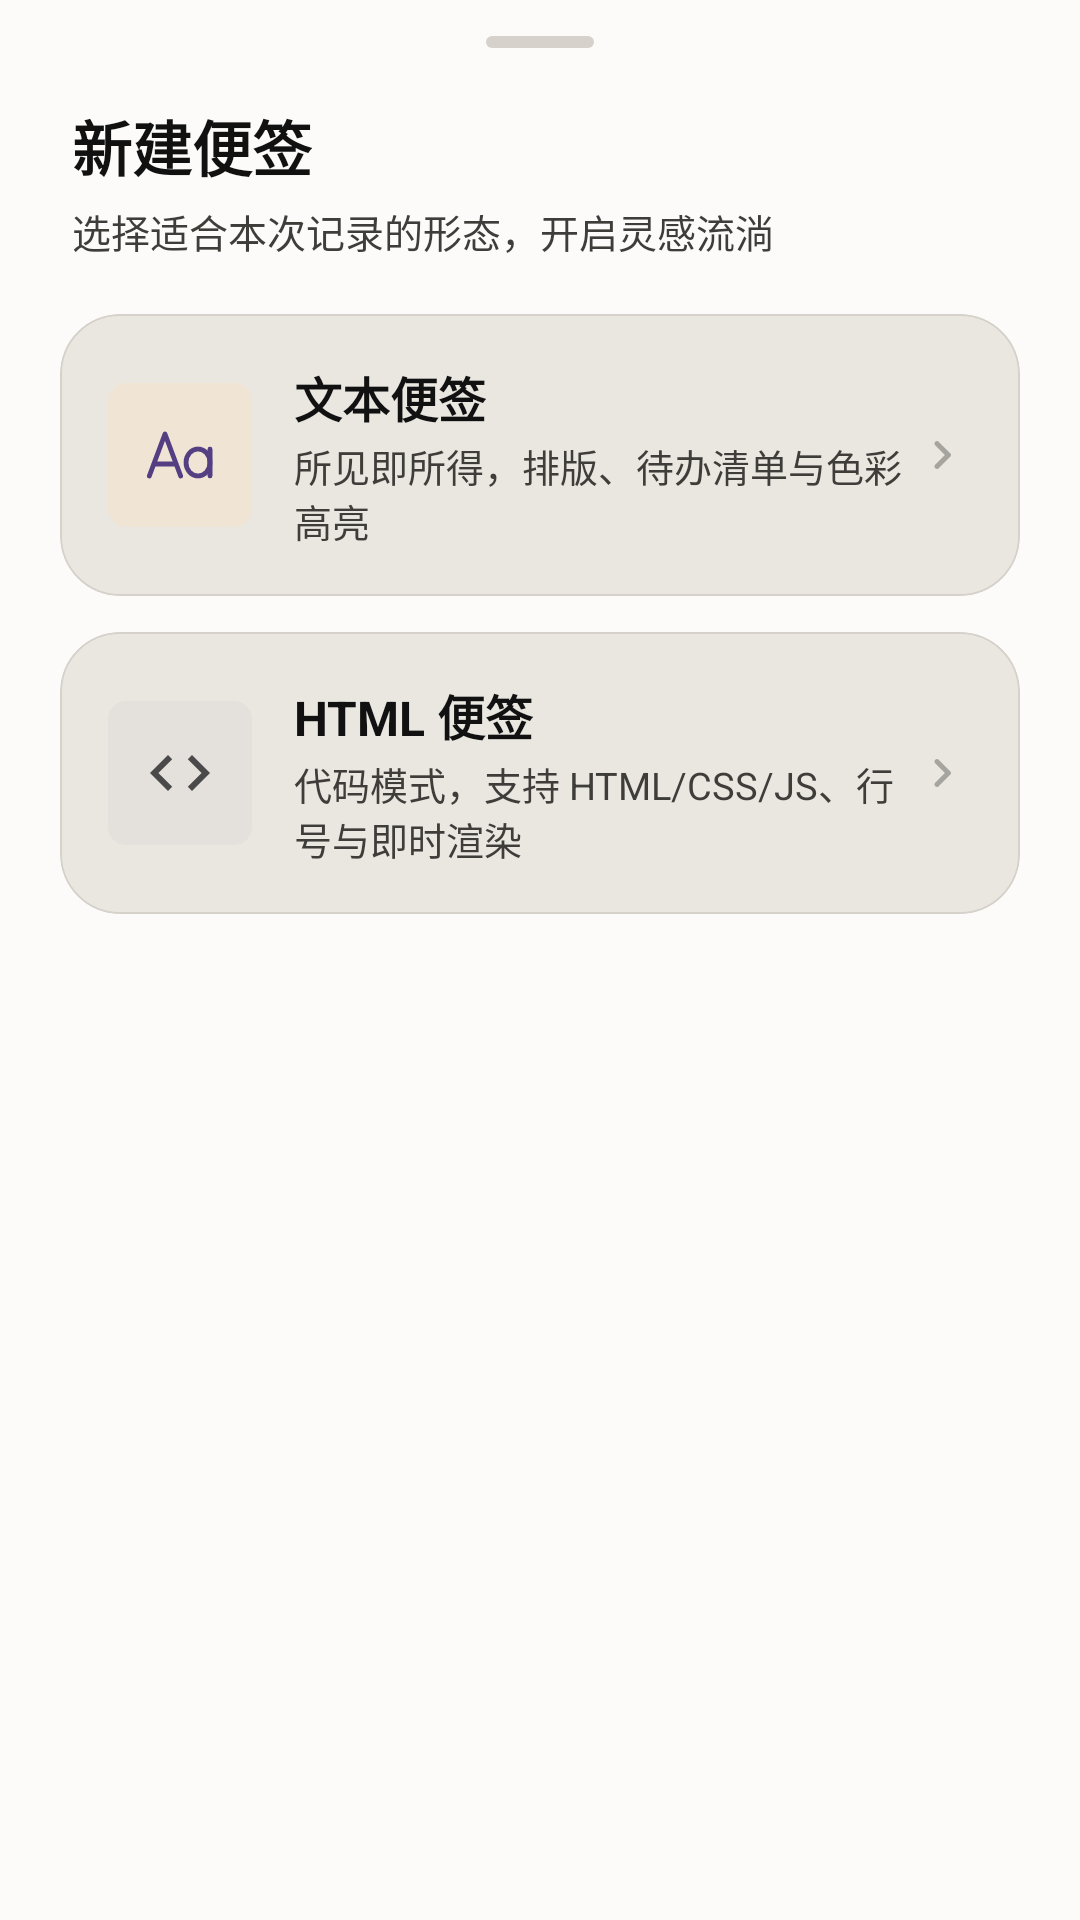

Icon click points for this 1080*1920 phone screenshot, format (x=x, y=y):
chevron right: (x=942, y=455), (x=942, y=773)
code: (x=180, y=773)
coloros richtext: (x=180, y=455)
